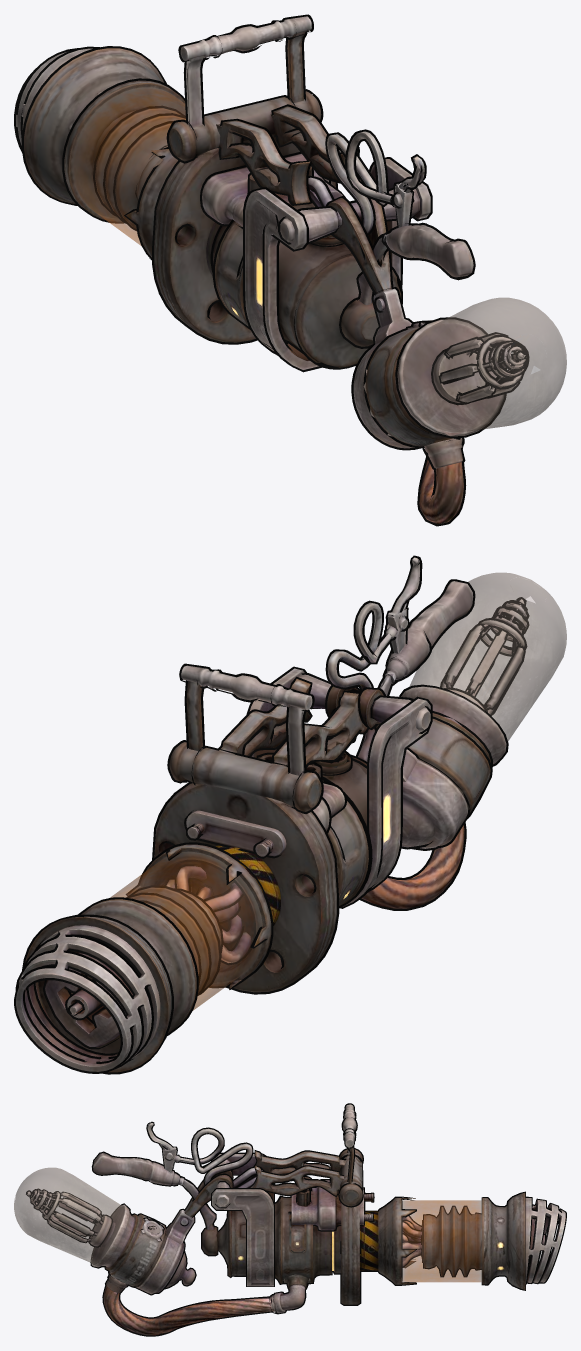
File: pistolet-a-rayons.glb
3 renders of one model, top to bottom at view 1: azimuth 30°, elevation 25°; view 2: azimuth 150°, elevation 25°; view 3: azimuth 270°, elevation 25°, orthographic. The views are drawn at different scales.
Parts seen in each view (by area): view 1: FXTRAY_GUN_Main_Low, FXTRAY_GUN_Glass_Low, FXTRAY_GUN_Main_Low1; view 2: FXTRAY_GUN_Main_Low, FXTRAY_GUN_Glass_Low, FXTRAY_GUN_Main_Low1; view 3: FXTRAY_GUN_Main_Low, FXTRAY_GUN_Glass_Low, FXTRAY_GUN_Main_Low1.
Boxes of the visible parts, <box> form: FXTRAY_GUN_Main_Low: <box>16,16,525,524</box>; FXTRAY_GUN_Glass_Low: <box>72,87,566,432</box>; FXTRAY_GUN_Main_Low1: <box>14,14,529,526</box>; FXTRAY_GUN_Main_Low: <box>16,557,527,1072</box>; FXTRAY_GUN_Glass_Low: <box>110,572,566,1010</box>; FXTRAY_GUN_Main_Low1: <box>14,555,529,1074</box>; FXTRAY_GUN_Main_Low: <box>27,1104,565,1335</box>; FXTRAY_GUN_Glass_Low: <box>14,1167,482,1282</box>; FXTRAY_GUN_Main_Low1: <box>26,1103,566,1336</box>.
Bounding box in the file's own units: 0.0187 × 0.037 × 0.0871.
Materials: 3 (2 with a texture image).
